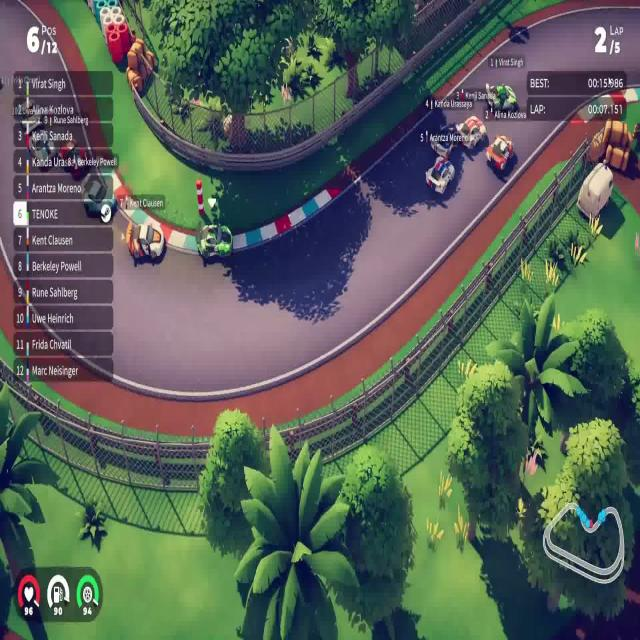car: (126, 217, 164, 263), (196, 222, 233, 262), (424, 154, 455, 196), (454, 114, 486, 150), (485, 133, 514, 172), (484, 80, 517, 114)
